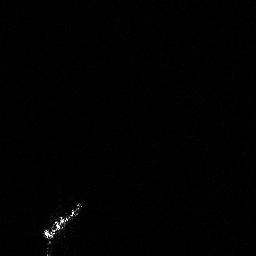ship: (40, 198, 87, 246)
